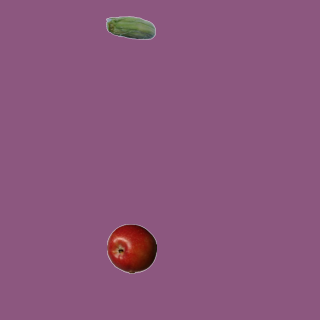Apple Braeburn: (106, 223, 156, 273)
Corn Husk: (105, 4, 155, 54)
